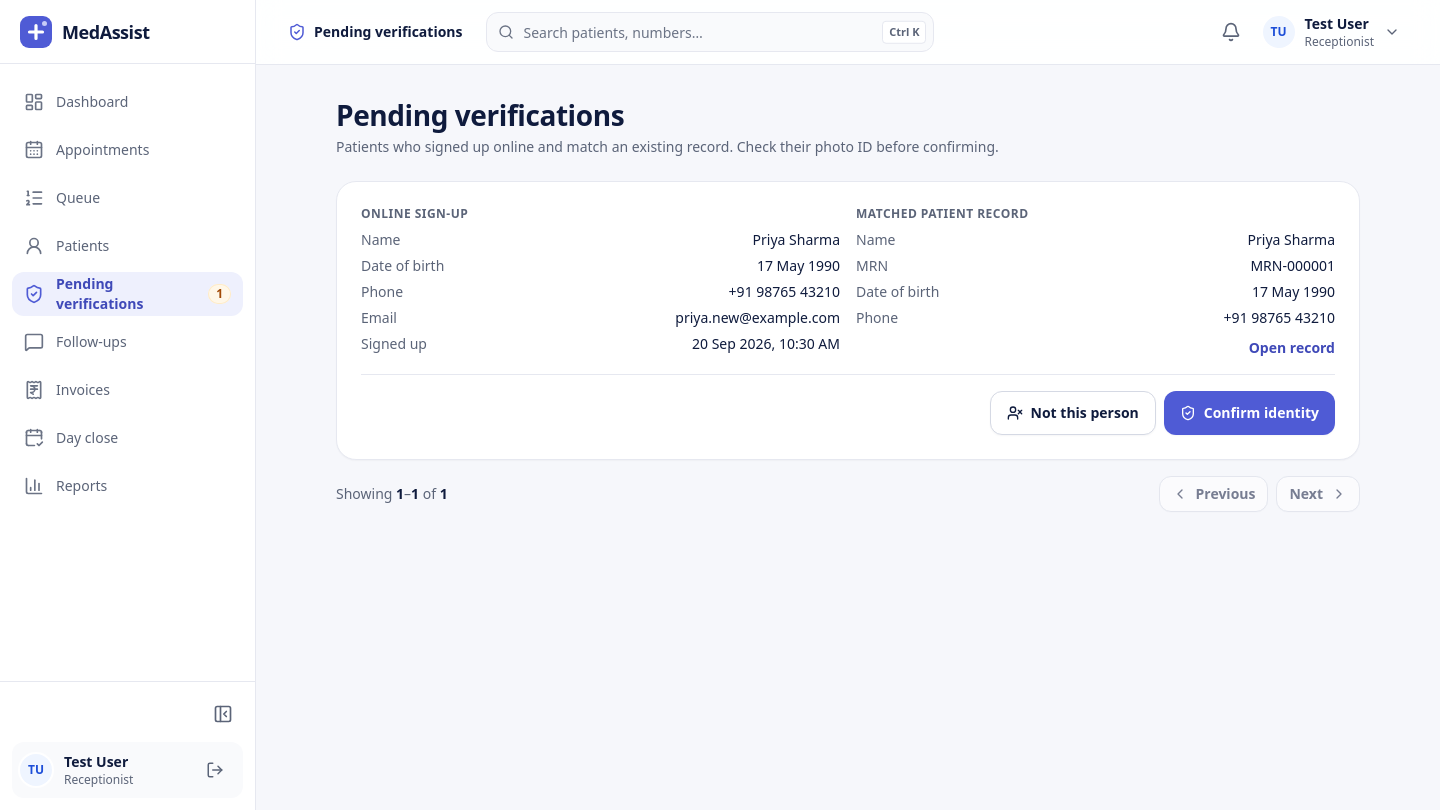
PendingLinksPage › confirms identity after the photo-ID reminder, then the list empties
Expected: the list named "Pending verifications" shows "priya.new@example.com", [675,308,840,327]
Expected: the list named "Pending verifications" shows "MRN-000001", [1250,256,1335,275]
Click the button "Confirm identity".
click(1249, 413)  # box [1164,391,1335,435]
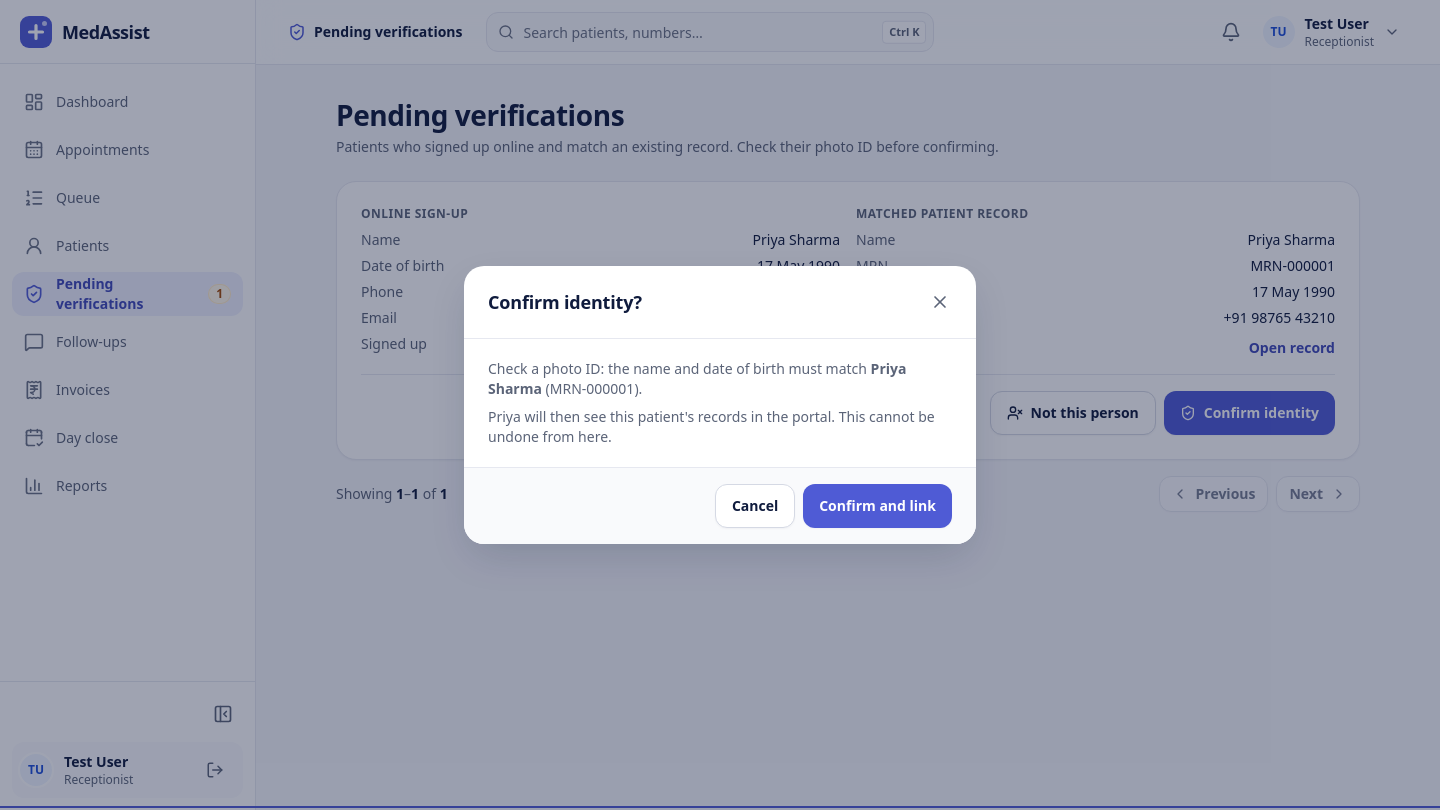
Click the button "Confirm and link".
click(878, 506)  # box [803,484,952,528]
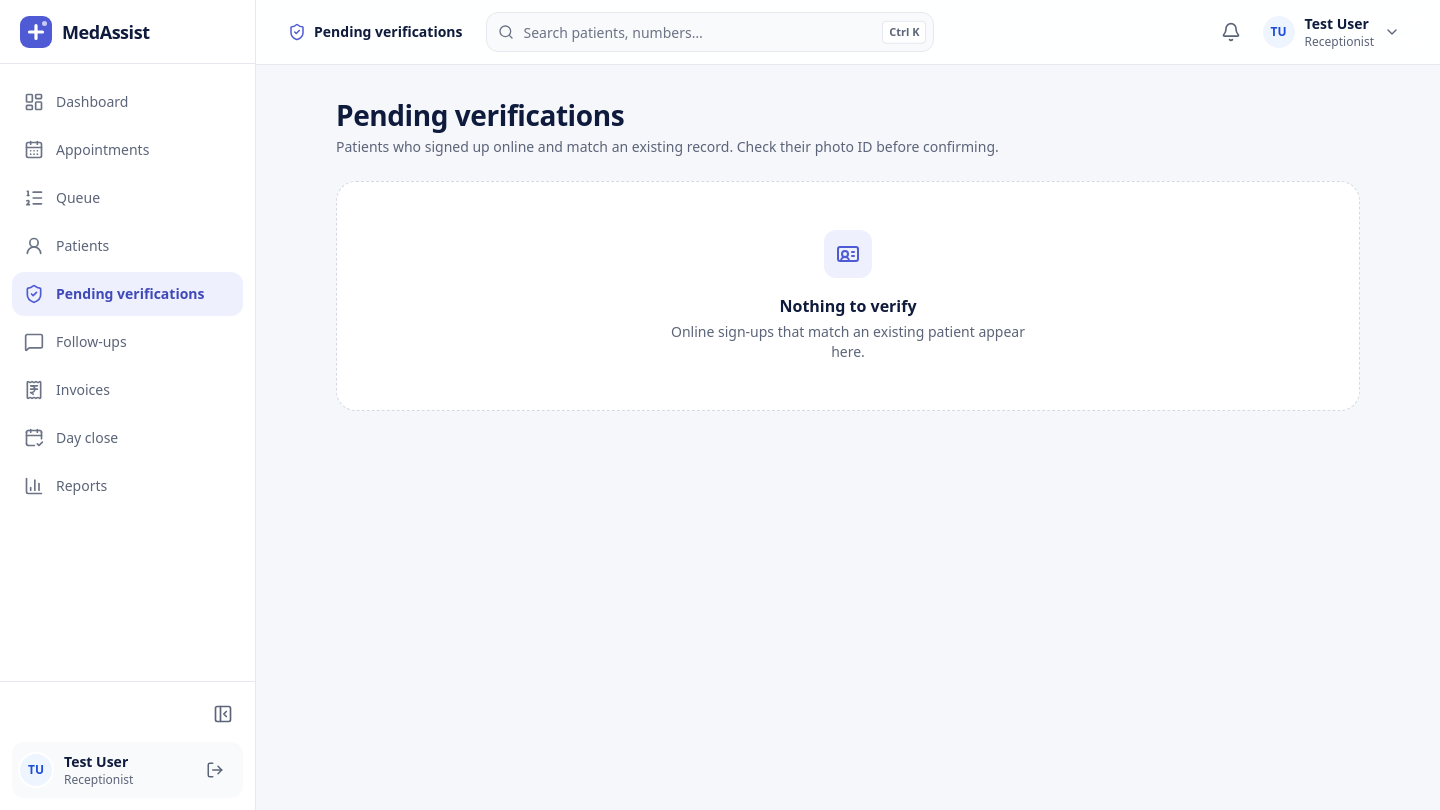
Expected: the text "Nothing to verify" is shown, [780,294,917,318]
